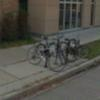bicycles: (28, 37, 67, 72), (53, 33, 78, 61)
